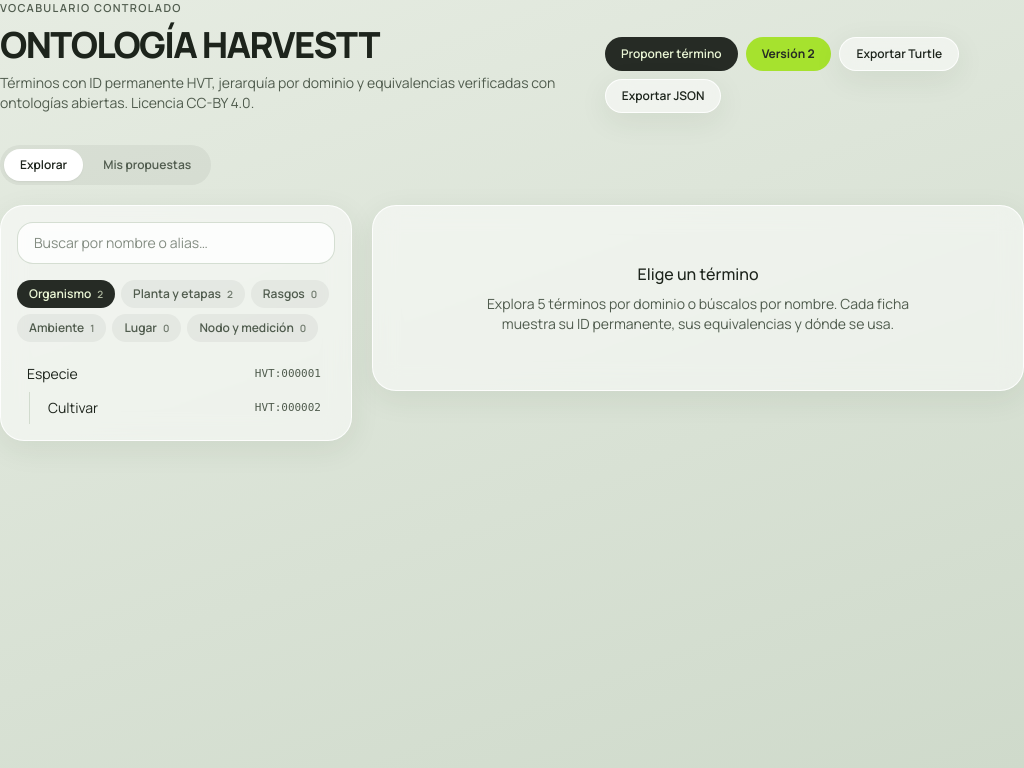
Test: proponer envía la propuesta y muestra el aviso de crédito
This screenshot has width=1024, height=768.
Check: the list named "Términos de Organismo" is shown, box [17,358,331,424]
Click the button "Proponer término": coordinates (671, 54) [605,36,738,70]
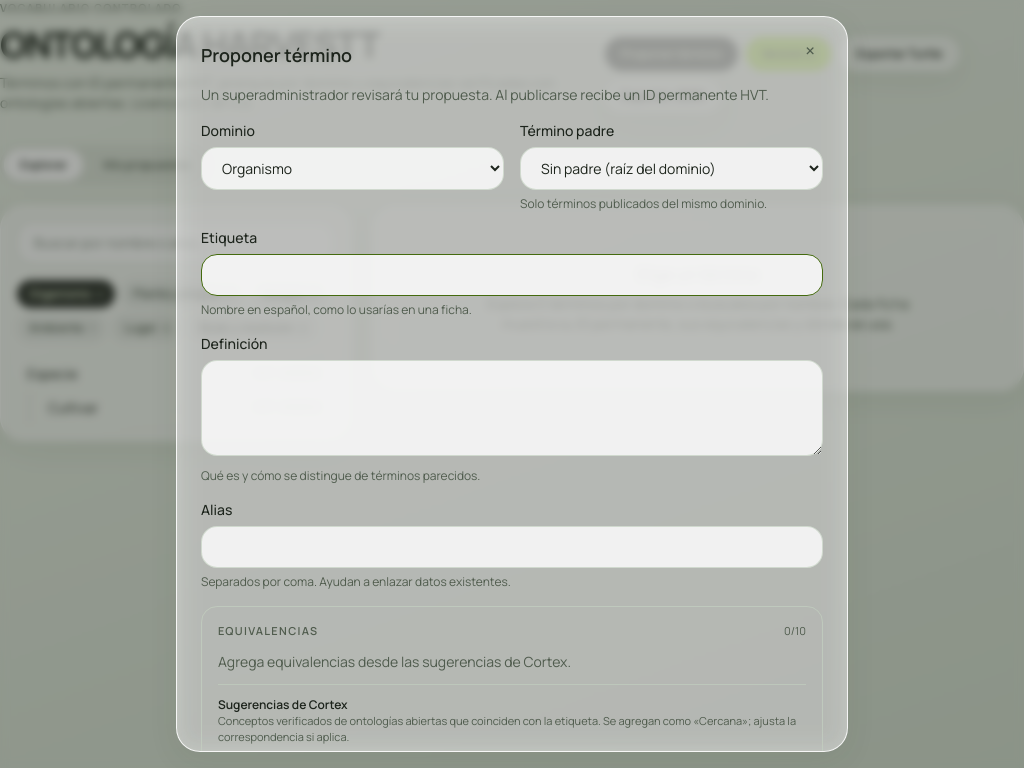
Select "Especie · HVT:000001" in the dropdown labelled "Término padre": coordinates (672, 168) [520,147,823,190]
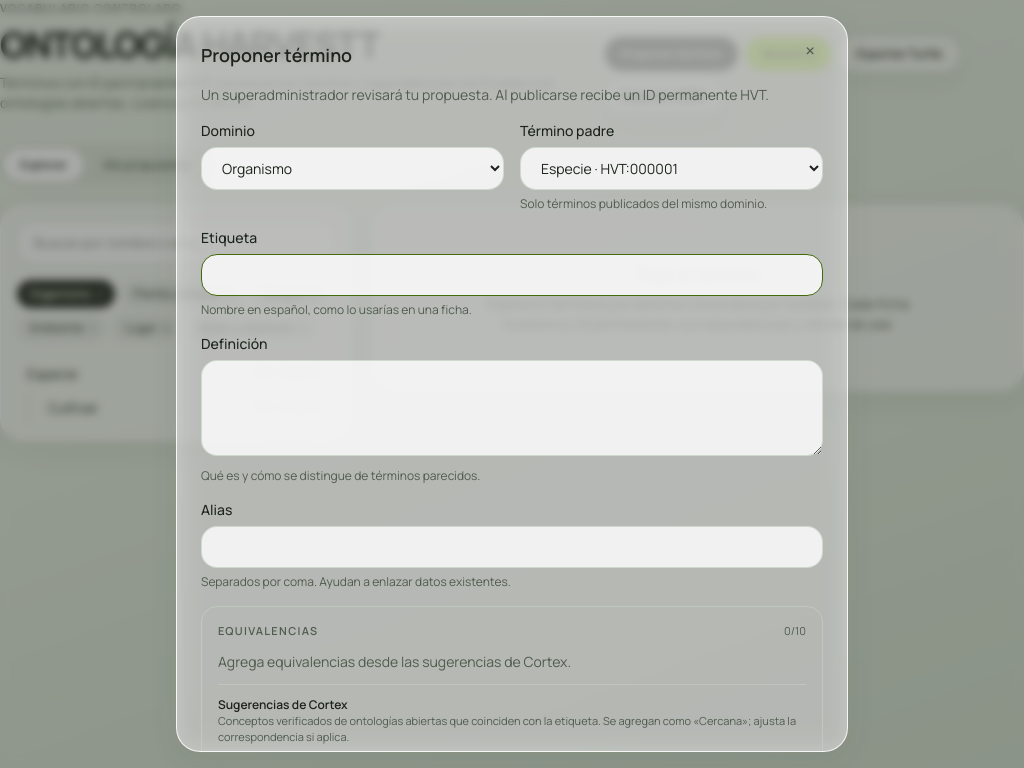
In the field labelled "Etiqueta": coordinates (512, 275) [201,254,823,296], type "Variedad local"
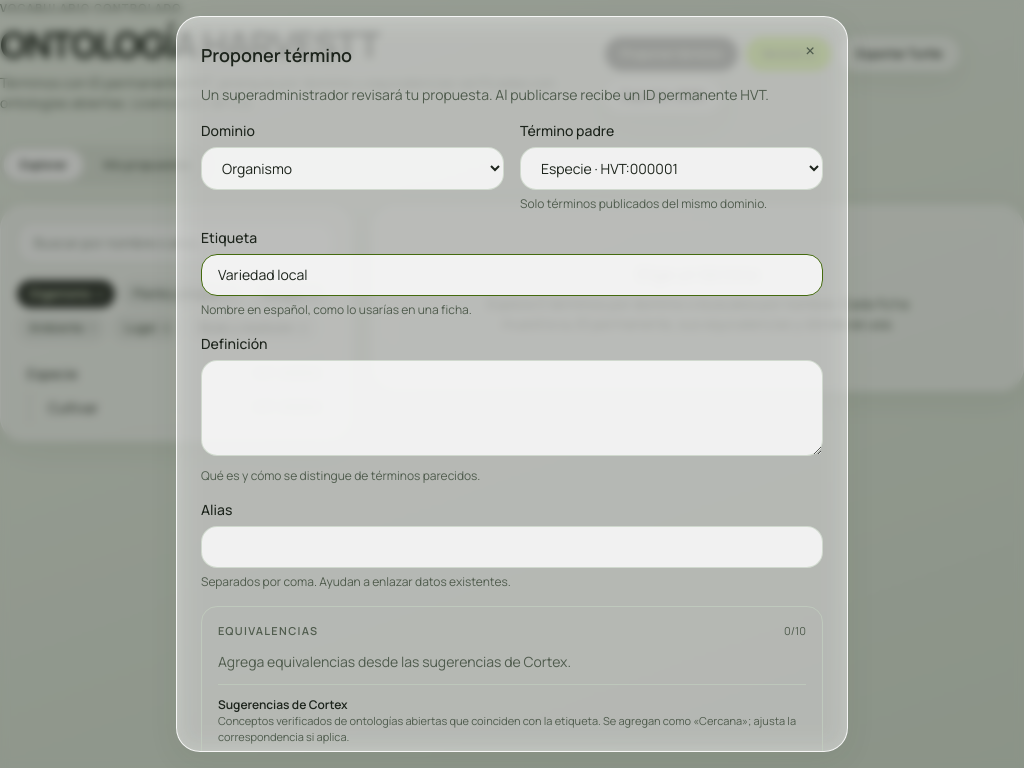
In the text box labelled "Definición": coordinates (512, 408) [201,360,823,456], type "Grupo de plantas de una misma especie con rasgos estables."
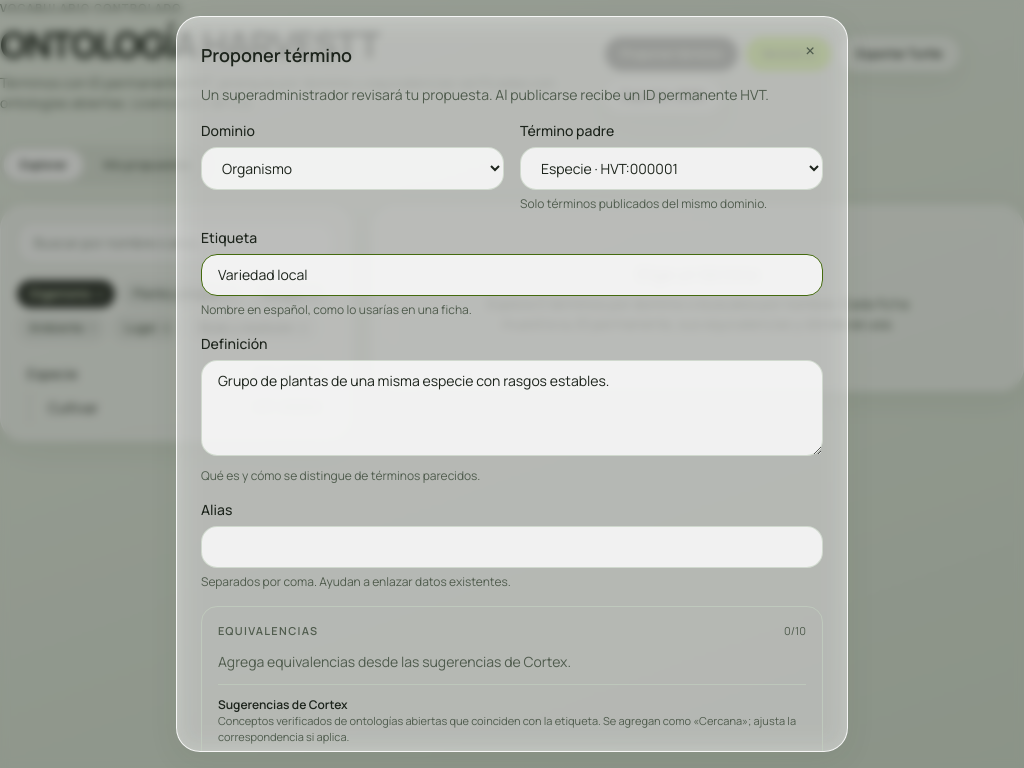
In the field labelled "Alias": coordinates (512, 547) [201,526,823,568], type "criolla, landrace ,"
(page scrolled)
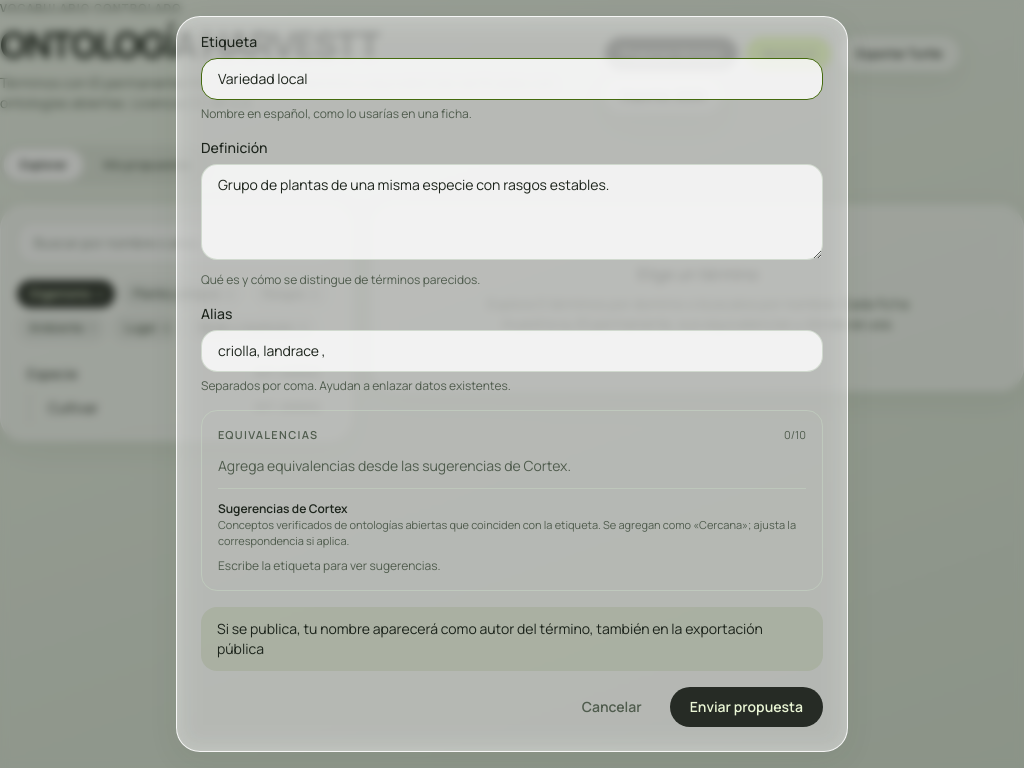
Click the button "Enviar propuesta": coordinates (746, 706) [670,686,823,726]
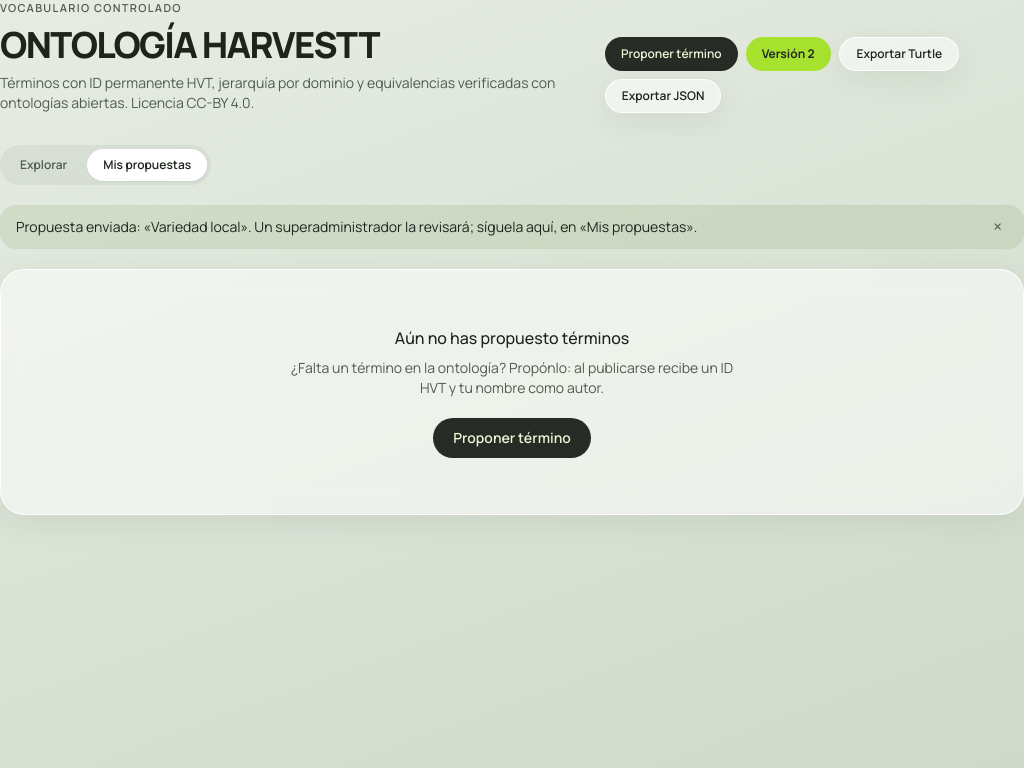
Check: the text "Propuesta enviada" is shown, box [16,216,697,236]
Check: the dialog is gone
